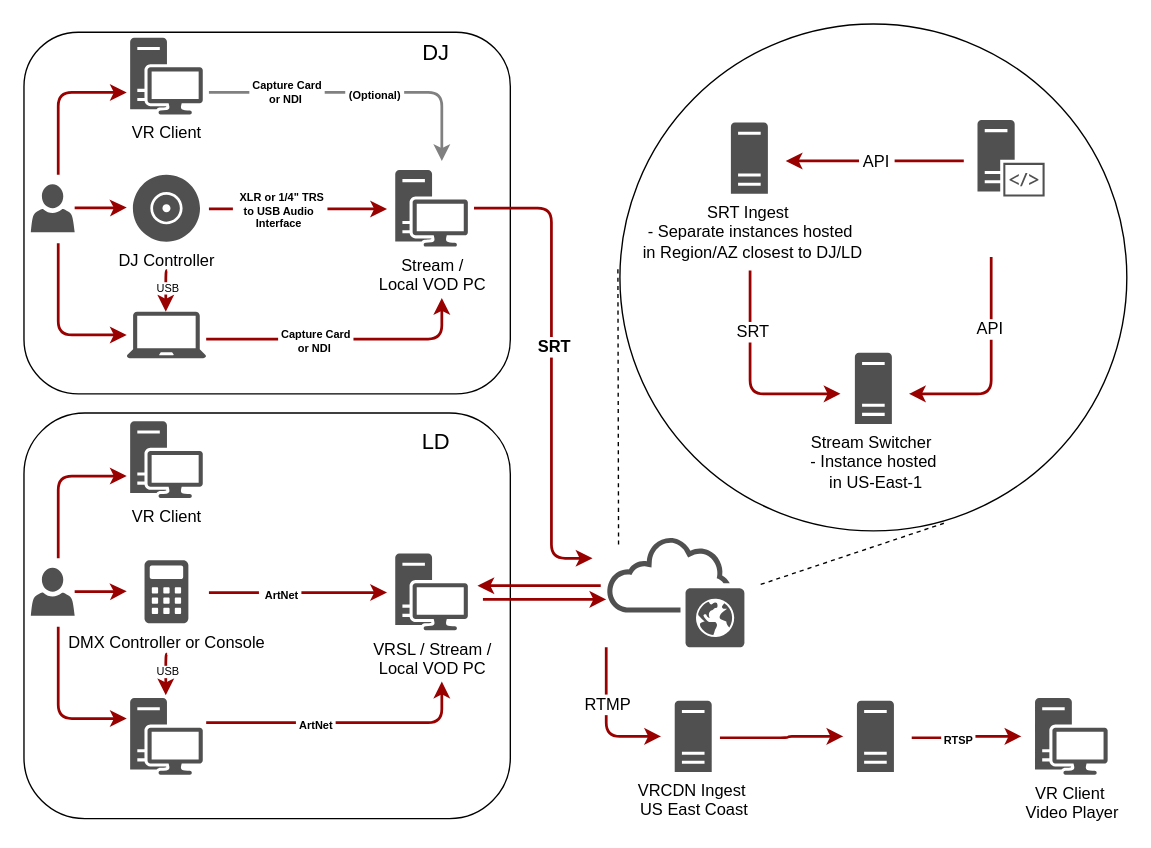
Some shapes in this 1151 by 848 pixel diagram are drawn without their labels. Here are the shapes that lost their labels. From the top down, the centre of each, then its label:
At (x=1010, y=157): "Stream Web Control Panel".
At (x=166, y=334): "DJ Laptop/Visuals".
At (x=675, y=591): "AWS Cloud".
At (x=165, y=735): "DMX Software & Visualiser".
At (x=874, y=735): "VRCDN Stream Servers DNS Gelocated".
